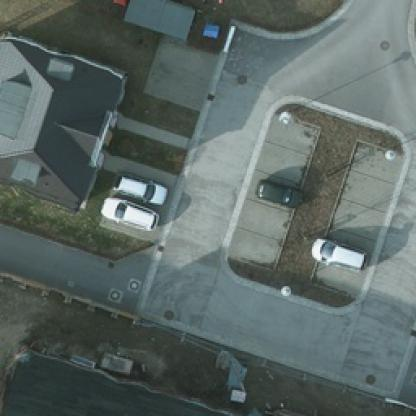car: (312, 232, 366, 272), (96, 195, 156, 226), (255, 176, 302, 210), (116, 176, 165, 204)
